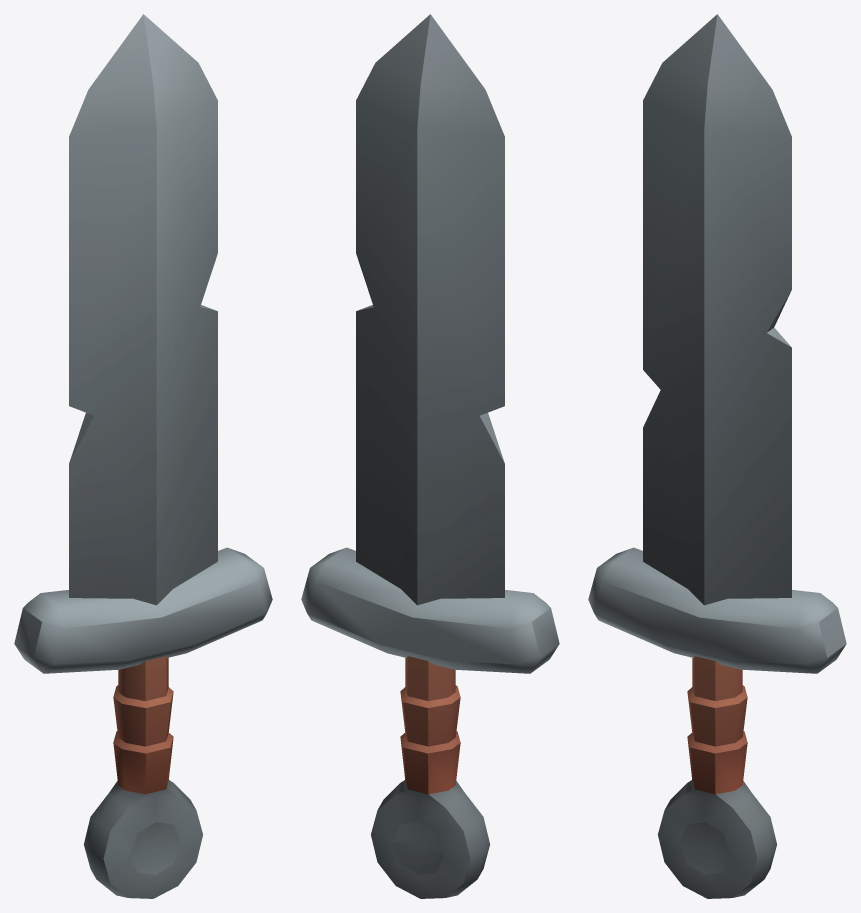
File: sword_1handed.glb
3 views of the same model, side by side, from view 1: azimuth 30°, elevation 25°; view 2: azimuth 150°, elevation 25°; view 3: azimuth 330°, elevation 25° (orthographic).
Visible parts, largest first — view 1: sword_1handed; view 2: sword_1handed; view 3: sword_1handed.
Boxes of the visible parts, bbox=[...] form: sword_1handed: bbox=[14, 14, 272, 898]; sword_1handed: bbox=[301, 14, 559, 898]; sword_1handed: bbox=[588, 14, 846, 898].
Size of the model in its own units: 0.5034 by 1.78 by 0.1306.
Materials: 1 (1 with a texture image).
